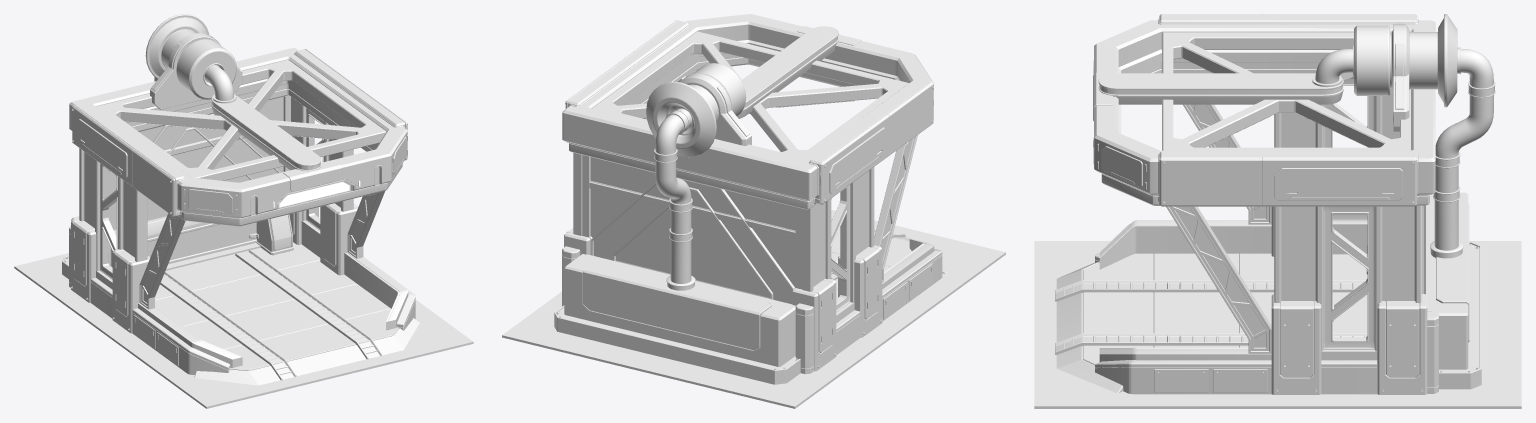
The model's file is KB3D_FTW_HeroPropMobileArmoryStation_A_grp.glb.
3 views of the same model, side by side, from view 1: azimuth 30°, elevation 25°; view 2: azimuth 150°, elevation 25°; view 3: azimuth 270°, elevation 25° (orthographic). The views are drawn at different scales.
Parts seen in each view (by area): view 1: KB3D_FTW_HeroPropMobileArmoryStation_A_Structure, KB3D_FTW_HeroPropMobileArmoryStation_A_Base; view 2: KB3D_FTW_HeroPropMobileArmoryStation_A_Structure, KB3D_FTW_HeroPropMobileArmoryStation_A_Base; view 3: KB3D_FTW_HeroPropMobileArmoryStation_A_Structure, KB3D_FTW_HeroPropMobileArmoryStation_A_Base.
Part boxes in pixels (bbox=[...]): KB3D_FTW_HeroPropMobileArmoryStation_A_Structure: bbox=[62, 14, 419, 385]; KB3D_FTW_HeroPropMobileArmoryStation_A_Base: bbox=[14, 253, 473, 408]; KB3D_FTW_HeroPropMobileArmoryStation_A_Structure: bbox=[554, 14, 946, 384]; KB3D_FTW_HeroPropMobileArmoryStation_A_Base: bbox=[502, 210, 1005, 408]; KB3D_FTW_HeroPropMobileArmoryStation_A_Structure: bbox=[1055, 14, 1495, 394]; KB3D_FTW_HeroPropMobileArmoryStation_A_Base: bbox=[1034, 241, 1521, 408].
Size of the model in its own units: 9.46 by 8.22 by 11.8.
11 materials, 1 textured.
